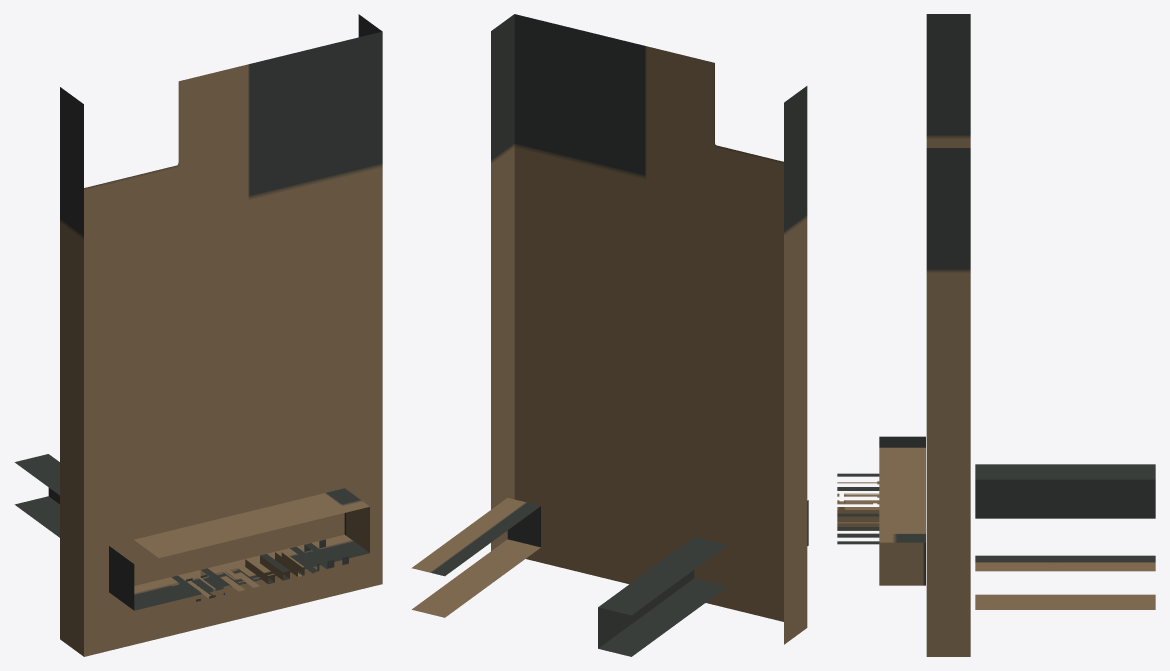
File: section-5.obj
3 renders of one model, left to right at view 1: azimuth 30°, elevation 25°; view 2: azimuth 150°, elevation 25°; view 3: azimuth 270°, elevation 25°, orthographic. The views are drawn at different scales.
Size of the model in its own units: 0.524 by 0.927 by 0.526.
